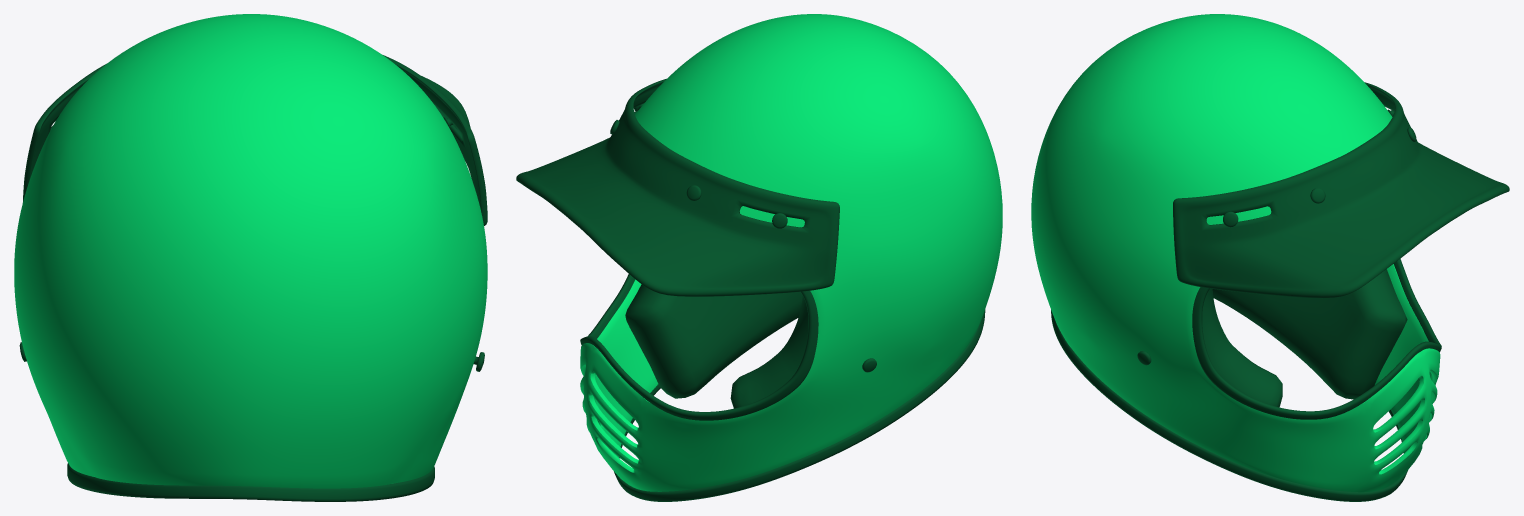
The model's file is icon_helm.glb.
The picture shows the model from 3 angles, left to right: view 1: azimuth 30°, elevation 25°; view 2: azimuth 150°, elevation 25°; view 3: azimuth 270°, elevation 25°; orthographic projection. The views are drawn at different scales.
Parts seen in each view (by area): view 1: helmet_base; view 2: helmet_base; view 3: helmet_base.
Boxes of the visible parts, left/top/right/bottom form: helmet_base: left=14, top=14, right=487, bottom=501; helmet_base: left=516, top=14, right=1002, bottom=501; helmet_base: left=1031, top=14, right=1509, bottom=501.
Size of the model in its own units: 0.3643 by 0.374 by 0.3921.
